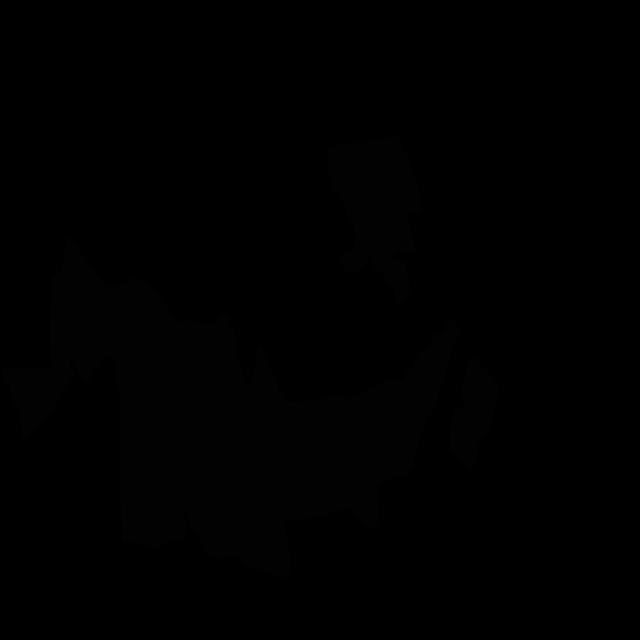cardboard: (51, 233, 460, 578), (247, 316, 460, 528), (327, 135, 422, 305), (2, 304, 74, 440), (120, 449, 186, 547), (449, 356, 499, 471)
